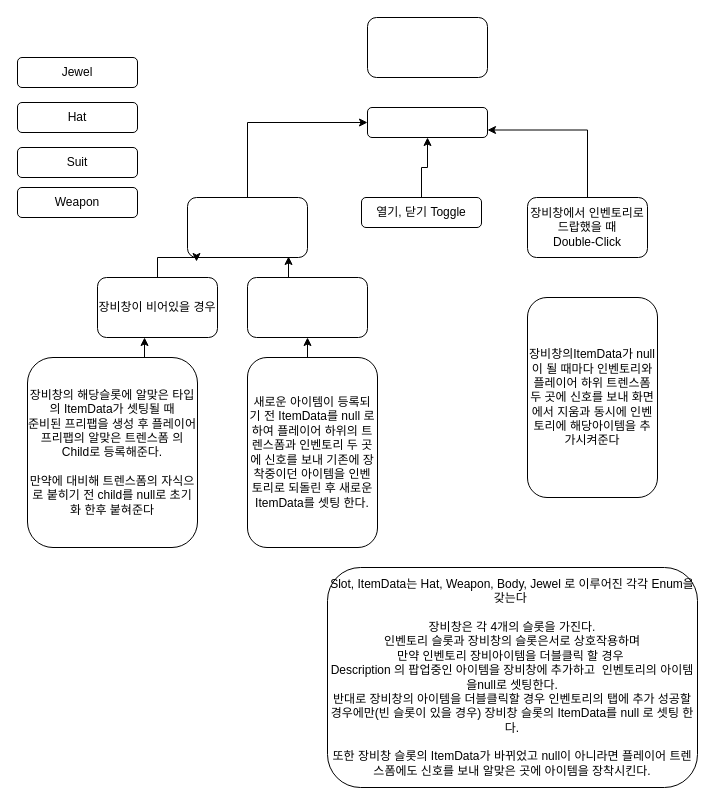
This 715x805 diagram has some shape labels left out. The shapes that lost their labels are listed below. From the top down, each one's centre as x and y in pixels, then its label:
At (427,47): "기능 장비창".
At (427,122): "Action".
At (247,227): "인벤토리에서 장비창으로 드롭했을 때 Double-Click".
At (307,307): "이미 장비한 아이템이 있을 경우".
